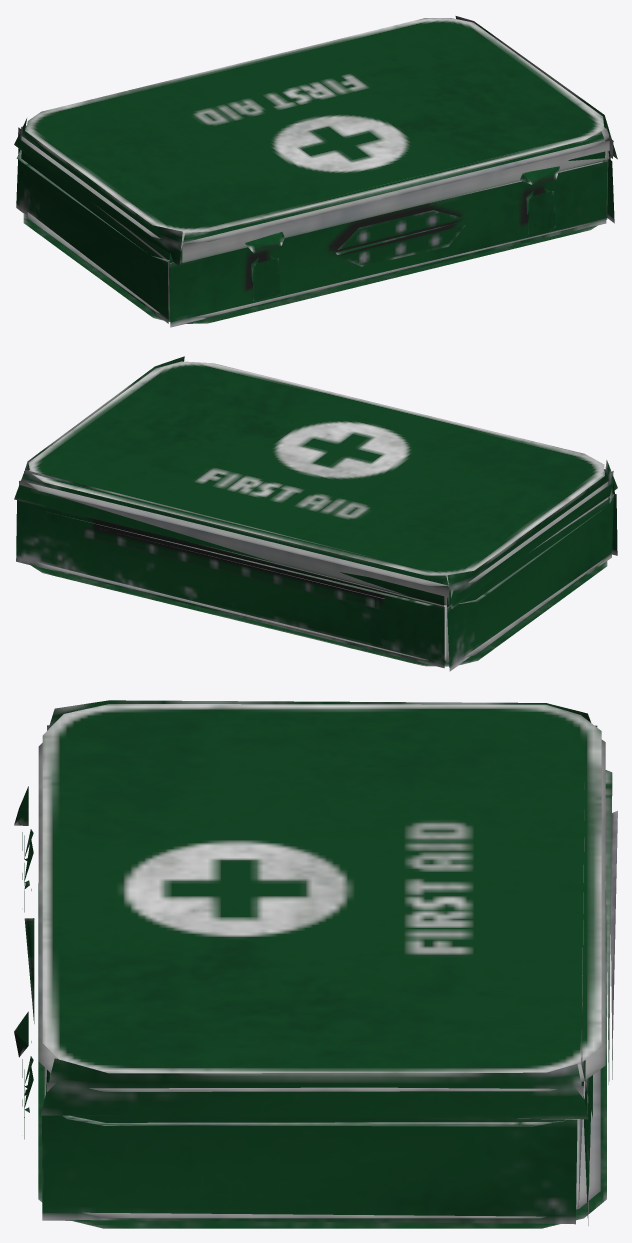
The model's file is MedicalBox.fbx.
3 renders of one model, top to bottom at view 1: azimuth 30°, elevation 25°; view 2: azimuth 150°, elevation 25°; view 3: azimuth 270°, elevation 25°, orthographic. The views are drawn at different scales.
Visible parts, largest first — view 1: аптечка; view 2: аптечка; view 3: аптечка.
Part boxes in pixels (left/top/right/bottom): аптечка: left=14, top=16, right=617, bottom=327; аптечка: left=14, top=356, right=617, bottom=671; аптечка: left=14, top=700, right=617, bottom=1228.
Bounding box in the file's own units: 0.5229 × 0.1014 × 0.3497.
Materials: 1 (1 with a texture image).
